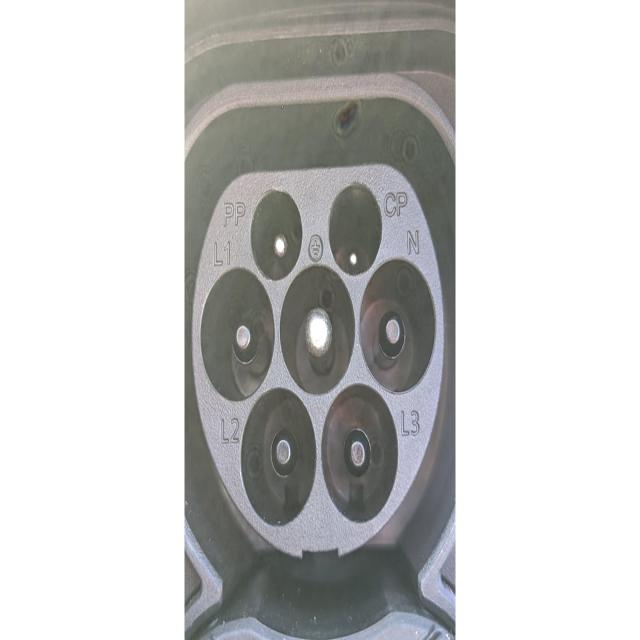Type 2: (182, 118, 458, 550)
